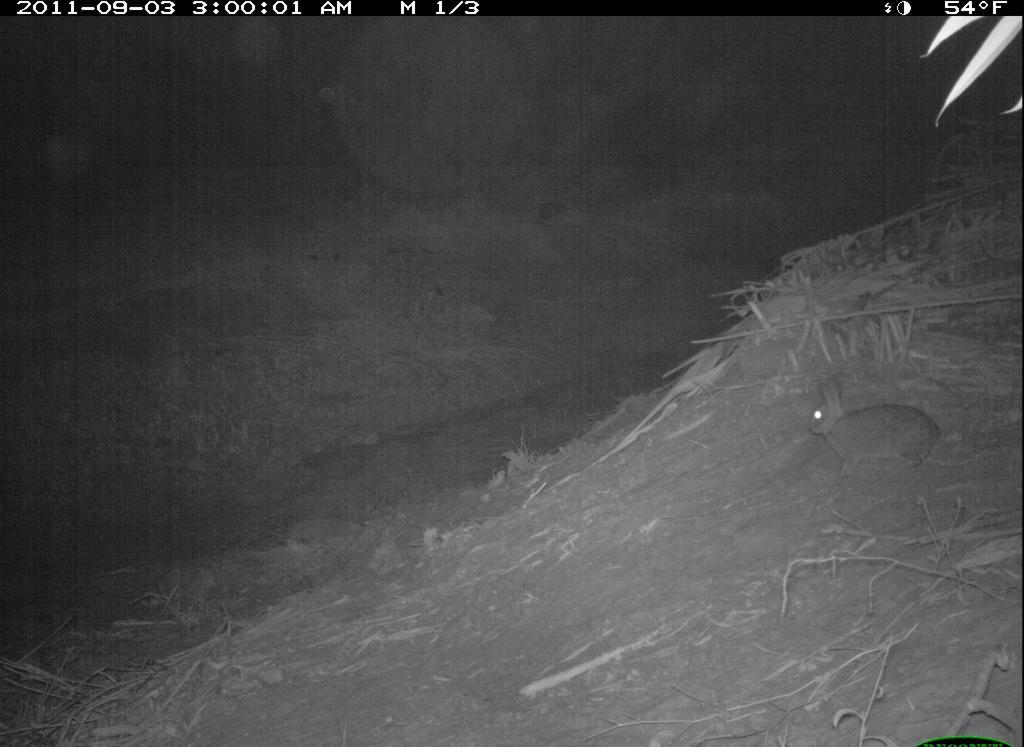rabbit: (800, 355, 954, 484)
